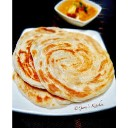parota: (34, 34, 114, 99), (13, 27, 70, 89)
